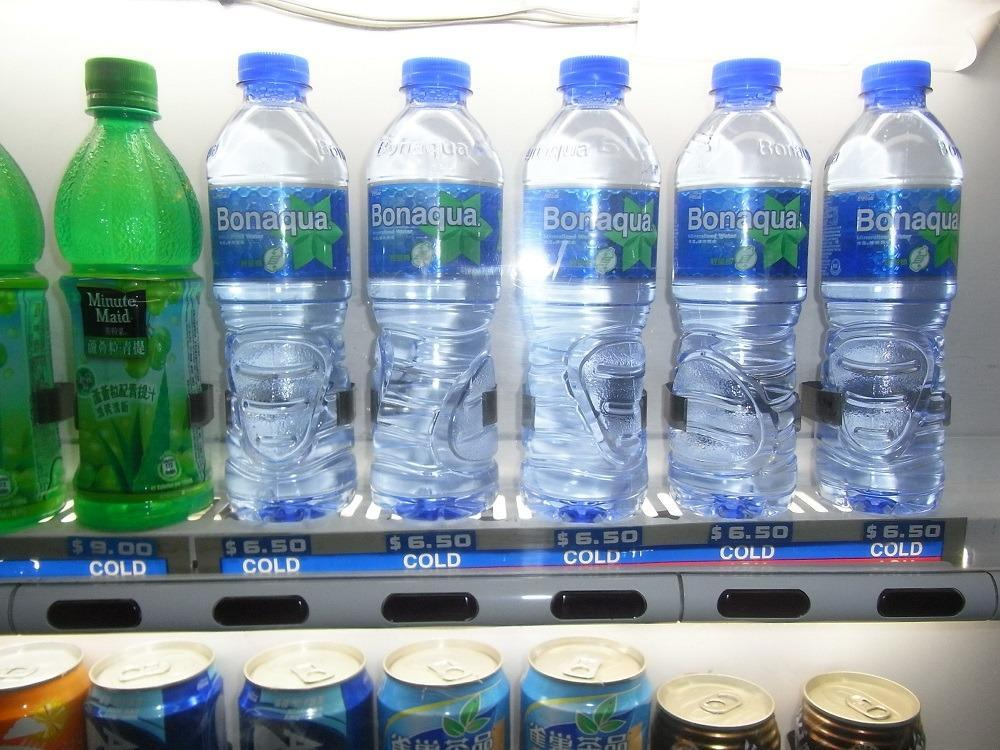bottle: (50, 47, 215, 527), (658, 57, 827, 521), (200, 51, 359, 522), (811, 51, 963, 518), (515, 51, 665, 519), (361, 53, 511, 519), (0, 91, 57, 525)
